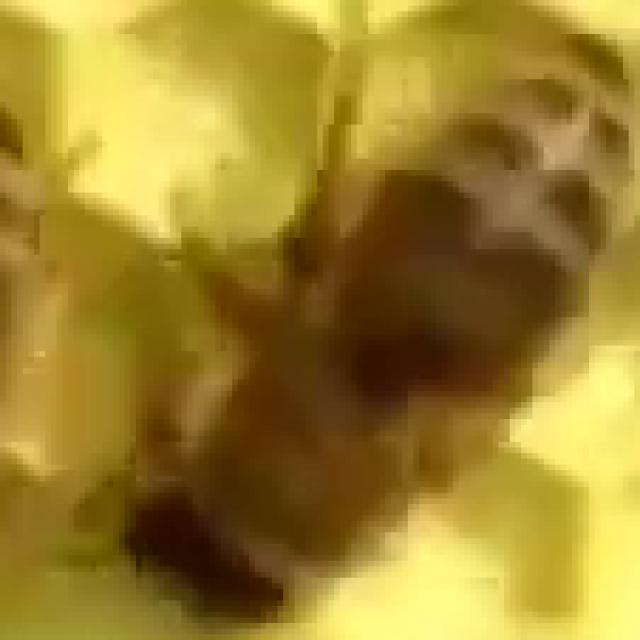honeybee: (125, 35, 622, 600)
